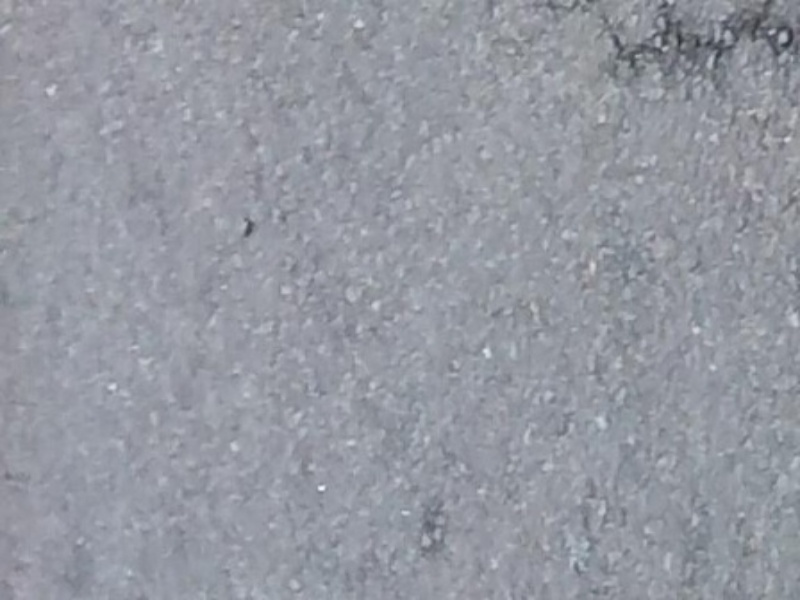crack: (590, 15, 793, 97)
